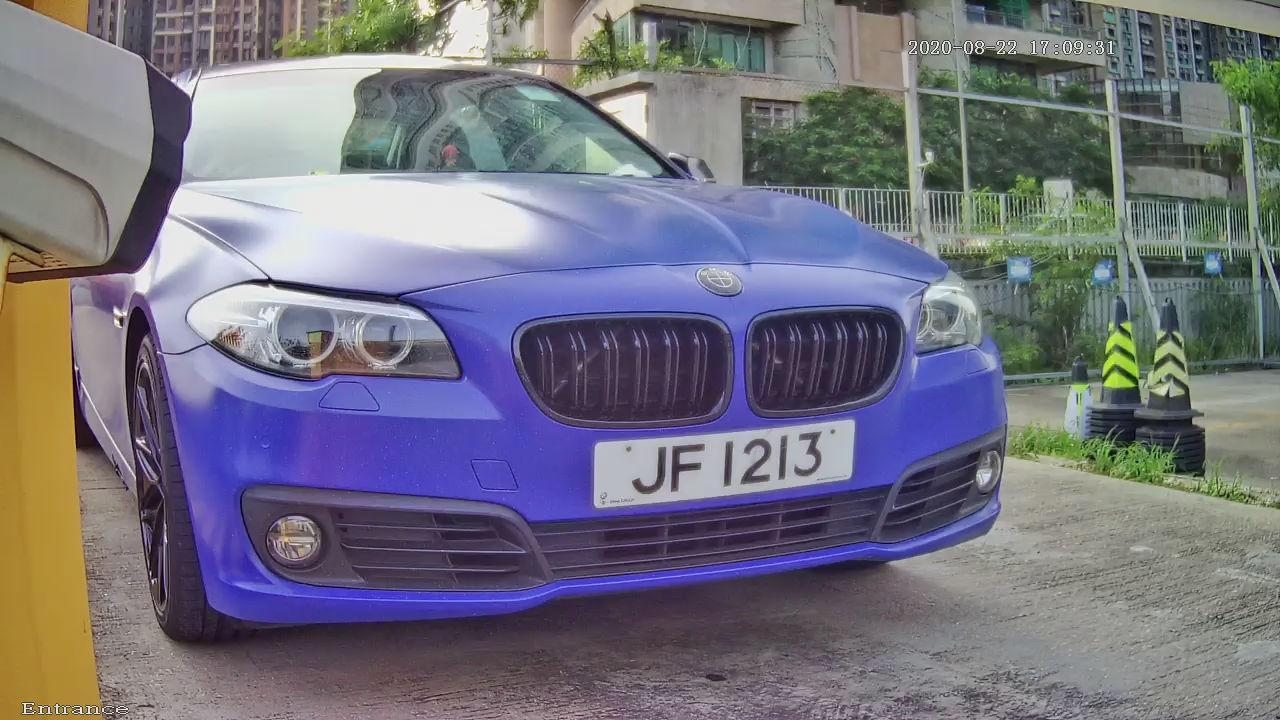Car: (23, 26, 1098, 663)
License Plate: (554, 396, 896, 541)
